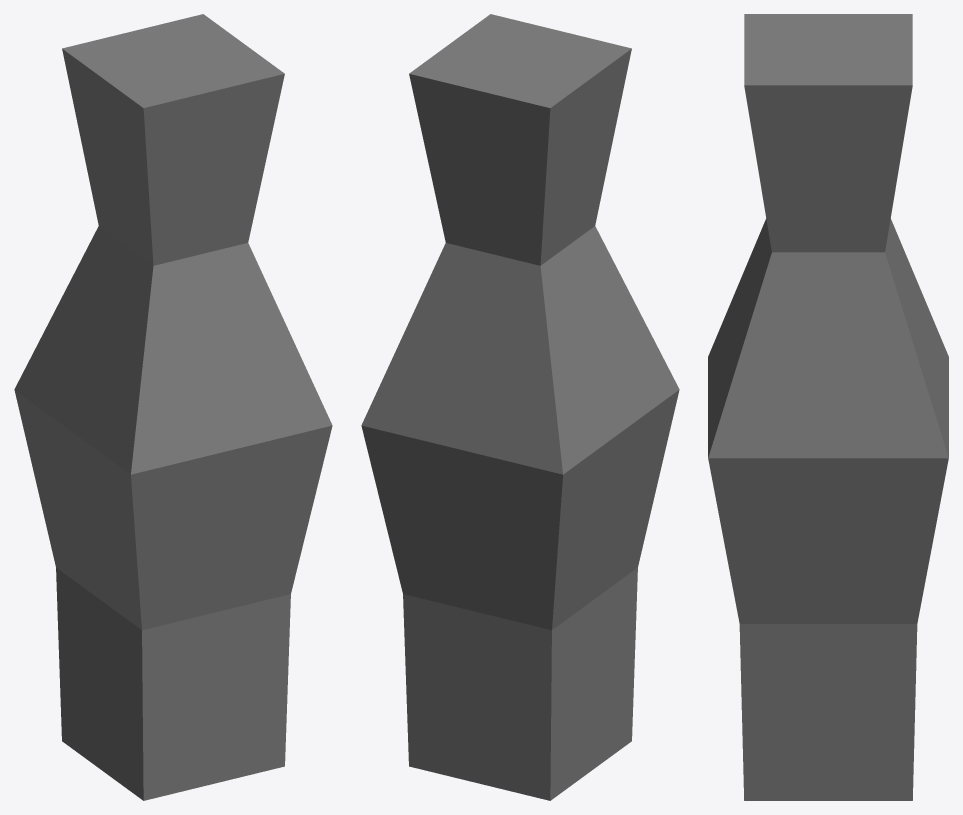
The model's file is stone_13.fbx.
3 views of the same model, side by side, from view 1: azimuth 30°, elevation 25°; view 2: azimuth 150°, elevation 25°; view 3: azimuth 270°, elevation 25° (orthographic). The views are drawn at different scales.
Parts seen in each view (by area): view 1: stone_13; view 2: stone_13; view 3: stone_13.
Part boxes in pixels (x1,y1,x2,y2): stone_13: (14, 14, 332, 800); stone_13: (361, 14, 679, 800); stone_13: (708, 14, 948, 800).
Bounding box in the file's own units: 21.04 × 69.04 × 21.04.
